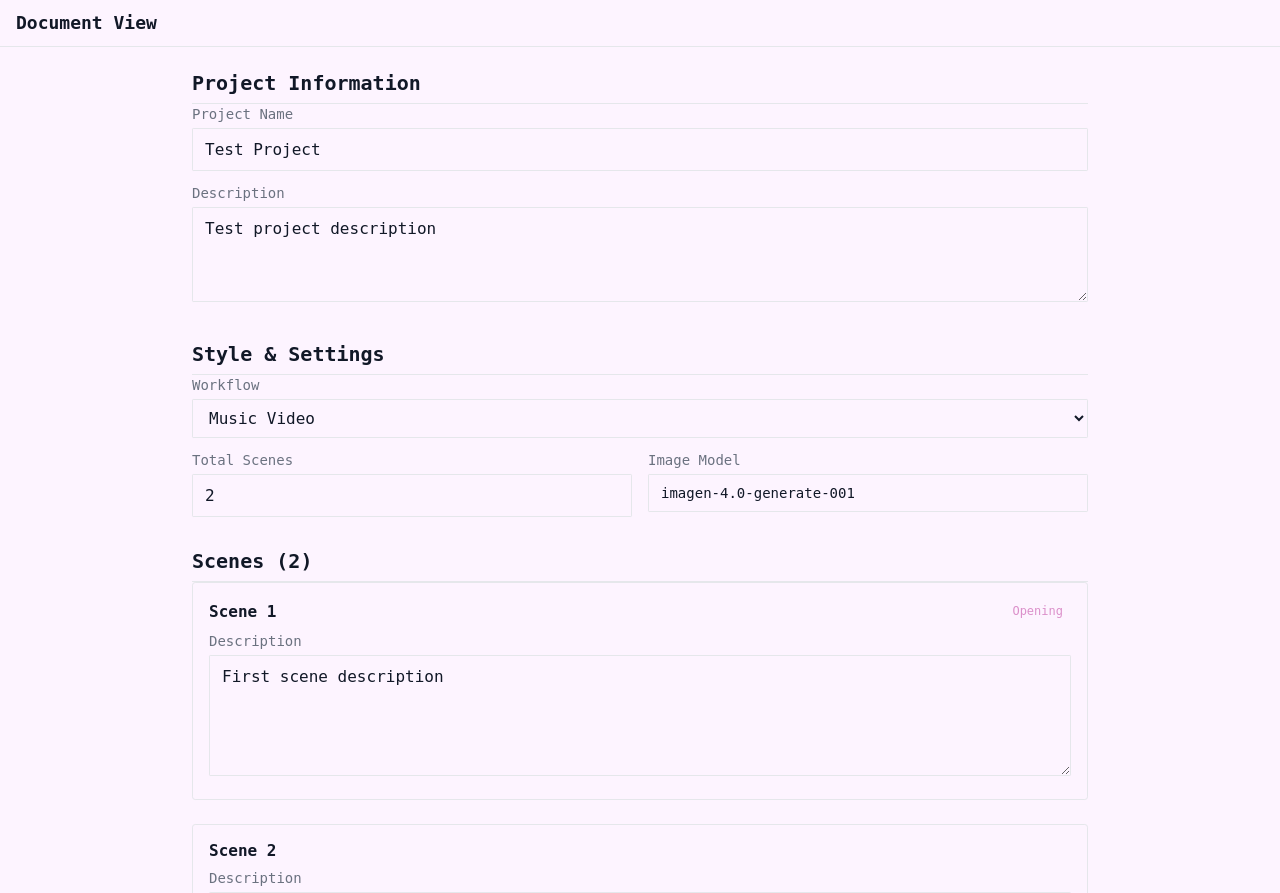
Test: DocumentView - Document Content Display › Document autosave › should show error message when save fails
This screenshot has width=1280, height=893.
Type " Updated" into the field labelled "Project Name". click: (640, 149)
box: top-left (192, 128), bottom-right (1088, 171)
Wait 2000 ms
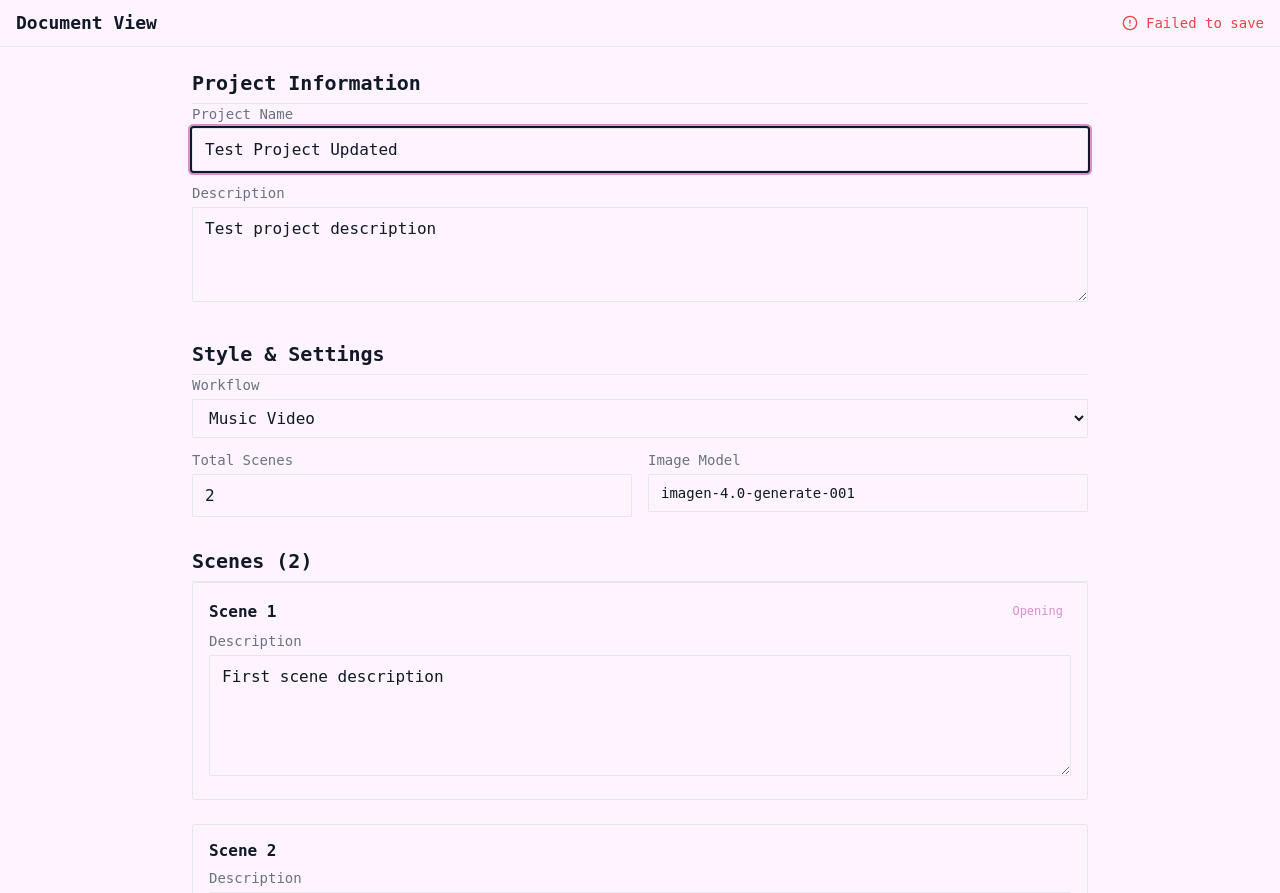
Check: the text "Failed to save" is shown, box top-left (1146, 13), bottom-right (1264, 33)
